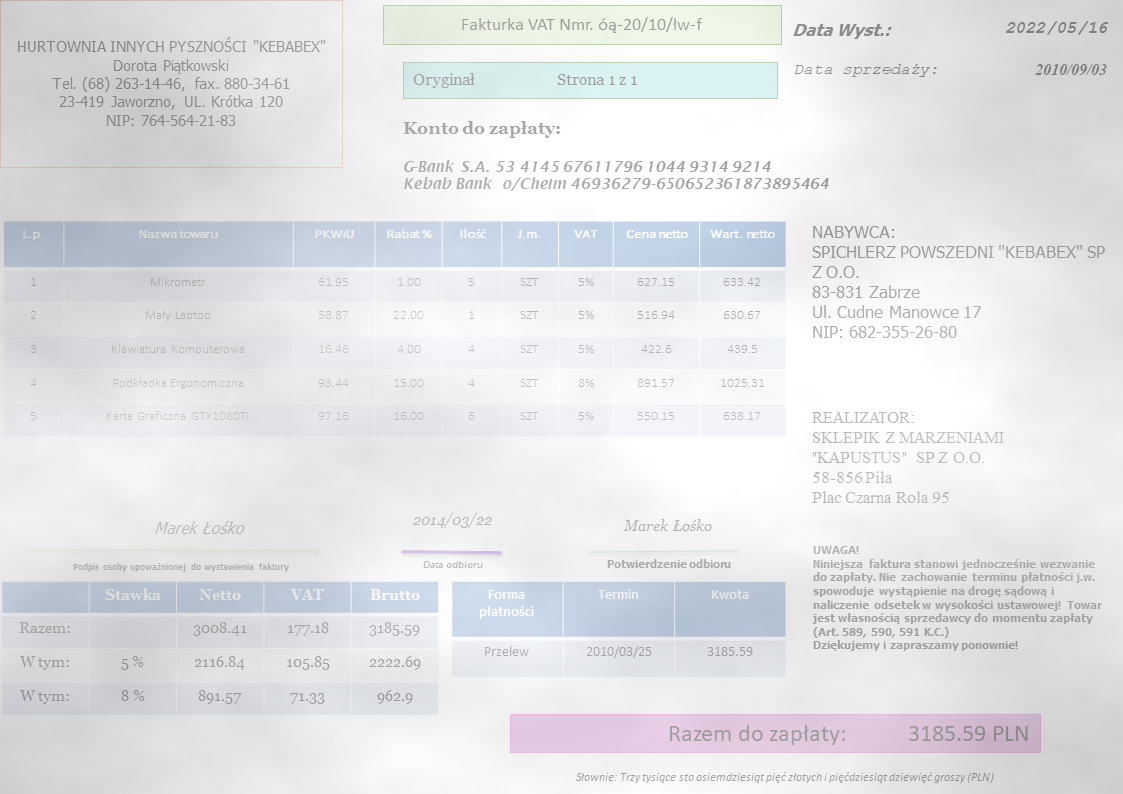Table: (2, 220, 787, 438), (1, 580, 441, 717), (450, 580, 787, 678)
TextBox: (808, 223, 1108, 342), (809, 541, 1105, 654), (15, 36, 329, 132), (809, 407, 1008, 507), (400, 157, 831, 195), (666, 721, 1032, 748), (573, 768, 997, 787), (458, 13, 703, 35), (411, 70, 640, 89), (399, 116, 564, 141), (68, 558, 293, 575), (791, 61, 938, 78), (1001, 17, 1109, 38), (790, 19, 895, 39), (604, 556, 735, 572), (153, 517, 247, 537), (409, 511, 496, 532), (621, 517, 714, 536), (1032, 61, 1107, 77), (419, 556, 485, 572)
